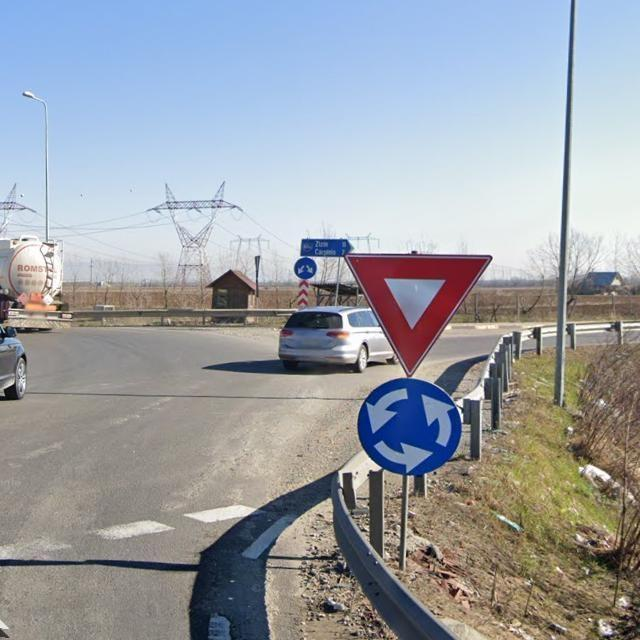prio_give_way: (340, 252, 491, 377)
